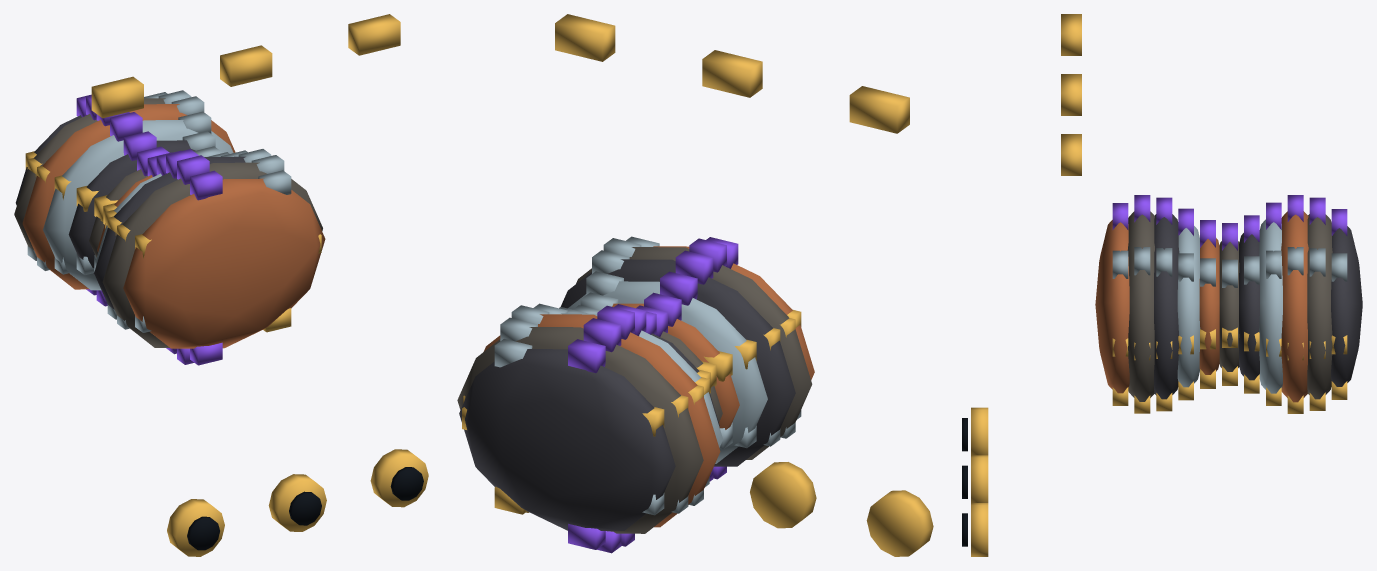
The model's file is 29_L93_CTGeometryCalibrationPhantom.fbx.
The picture shows the model from 3 angles, left to right: view 1: azimuth 30°, elevation 25°; view 2: azimuth 150°, elevation 25°; view 3: azimuth 270°, elevation 25°; orthographic projection. The views are drawn at different scales.
Parts seen in each view (by area): view 1: L92_CTGeometryCalibrationPhantom_Part_0008, L92_CTGeometryCalibrationPhantom_Part_0003, L92_CTGeometryCalibrationPhantom_Part_0007, L92_CTGeometryCalibrationPhantom_Part_0009, L92_CTGeometryCalibrationPhantom_Part_0000, L92_CTGeometryCalibrationPhantom_Part_0005, L92_CTGeometryCalibrationPhantom_Part_0014, L92_CTGeometryCalibrationPhantom_Part_0012, L92_CTGeometryCalibrationPhantom_Part_0010, L92_CTGeometryCalibrationPhantom_Part_0001, L92_CTGeometryCalibrationPhantom_Part_0006, L92_CTGeometryCalibrationPhantom_Part_0004 (+4 smaller); view 2: L92_CTGeometryCalibrationPhantom_Part_0000, L92_CTGeometryCalibrationPhantom_Part_0007, L92_CTGeometryCalibrationPhantom_Part_0003, L92_CTGeometryCalibrationPhantom_Part_0005, L92_CTGeometryCalibrationPhantom_Part_0008, L92_CTGeometryCalibrationPhantom_Part_0009, L92_CTGeometryCalibrationPhantom_Part_0010, L92_CTGeometryCalibrationPhantom_Part_0012, L92_CTGeometryCalibrationPhantom_Part_0001, L92_CTGeometryCalibrationPhantom_Part_0002, L92_CTGeometryCalibrationPhantom_Part_0004; view 3: L92_CTGeometryCalibrationPhantom_Part_0008, L92_CTGeometryCalibrationPhantom_Part_0007, L92_CTGeometryCalibrationPhantom_Part_0003, L92_CTGeometryCalibrationPhantom_Part_0000, L92_CTGeometryCalibrationPhantom_Part_0005, L92_CTGeometryCalibrationPhantom_Part_0009, L92_CTGeometryCalibrationPhantom_Part_0001, L92_CTGeometryCalibrationPhantom_Part_0002, L92_CTGeometryCalibrationPhantom_Part_0014, L92_CTGeometryCalibrationPhantom_Part_0004, L92_CTGeometryCalibrationPhantom_Part_0010, L92_CTGeometryCalibrationPhantom_Part_0012.
Boxes of the visible parts, left/top/right/bottom form: L92_CTGeometryCalibrationPhantom_Part_0008: left=22, top=104, right=325, bottom=348; L92_CTGeometryCalibrationPhantom_Part_0003: left=27, top=90, right=271, bottom=319; L92_CTGeometryCalibrationPhantom_Part_0007: left=14, top=98, right=322, bottom=347; L92_CTGeometryCalibrationPhantom_Part_0009: left=91, top=14, right=400, bottom=118; L92_CTGeometryCalibrationPhantom_Part_0000: left=15, top=115, right=245, bottom=309; L92_CTGeometryCalibrationPhantom_Part_0005: left=76, top=94, right=209, bottom=364; L92_CTGeometryCalibrationPhantom_Part_0014: left=370, top=449, right=428, bottom=507; L92_CTGeometryCalibrationPhantom_Part_0012: left=268, top=474, right=326, bottom=531; L92_CTGeometryCalibrationPhantom_Part_0010: left=167, top=499, right=224, bottom=556; L92_CTGeometryCalibrationPhantom_Part_0001: left=25, top=151, right=117, bottom=224; L92_CTGeometryCalibrationPhantom_Part_0006: left=190, top=170, right=222, bottom=365; L92_CTGeometryCalibrationPhantom_Part_0004: left=117, top=155, right=291, bottom=332; L92_CTGeometryCalibrationPhantom_Part_0000: left=459, top=259, right=795, bottom=530; L92_CTGeometryCalibrationPhantom_Part_0007: left=457, top=247, right=812, bottom=533; L92_CTGeometryCalibrationPhantom_Part_0003: left=494, top=250, right=780, bottom=515; L92_CTGeometryCalibrationPhantom_Part_0005: left=568, top=238, right=726, bottom=553; L92_CTGeometryCalibrationPhantom_Part_0008: left=483, top=246, right=814, bottom=527; L92_CTGeometryCalibrationPhantom_Part_0009: left=555, top=14, right=909, bottom=133; L92_CTGeometryCalibrationPhantom_Part_0010: left=866, top=490, right=933, bottom=556; L92_CTGeometryCalibrationPhantom_Part_0012: left=750, top=462, right=816, bottom=528; L92_CTGeometryCalibrationPhantom_Part_0001: left=462, top=351, right=732, bottom=514; L92_CTGeometryCalibrationPhantom_Part_0002: left=735, top=310, right=801, bottom=369; L92_CTGeometryCalibrationPhantom_Part_0004: left=603, top=236, right=801, bottom=438; L92_CTGeometryCalibrationPhantom_Part_0008: left=1095, top=211, right=1308, bottom=402; L92_CTGeometryCalibrationPhantom_Part_0007: left=1127, top=211, right=1332, bottom=401; L92_CTGeometryCalibrationPhantom_Part_0003: left=1156, top=219, right=1347, bottom=393; L92_CTGeometryCalibrationPhantom_Part_0000: left=1154, top=214, right=1362, bottom=399; L92_CTGeometryCalibrationPhantom_Part_0005: left=1134, top=195, right=1347, bottom=250; L92_CTGeometryCalibrationPhantom_Part_0009: left=1061, top=14, right=1081, bottom=175; L92_CTGeometryCalibrationPhantom_Part_0001: left=1200, top=327, right=1347, bottom=413; L92_CTGeometryCalibrationPhantom_Part_0002: left=1112, top=335, right=1215, bottom=413; L92_CTGeometryCalibrationPhantom_Part_0014: left=971, top=503, right=988, bottom=556; L92_CTGeometryCalibrationPhantom_Part_0004: left=1112, top=247, right=1150, bottom=278; L92_CTGeometryCalibrationPhantom_Part_0010: left=971, top=407, right=988, bottom=455; L92_CTGeometryCalibrationPhantom_Part_0012: left=971, top=455, right=988, bottom=502.
Bounding box in the file's own units: 79 × 112 × 96.05.
